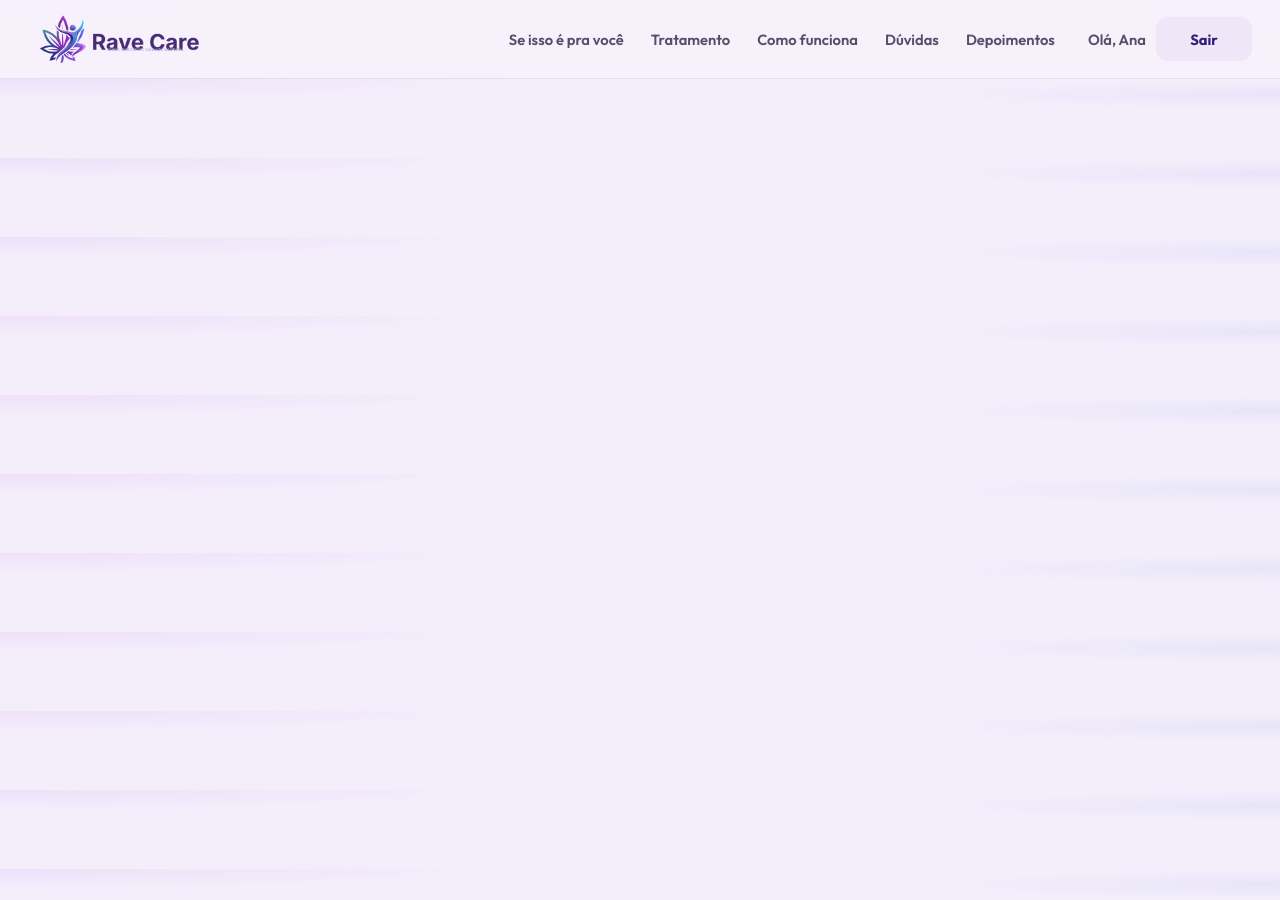
Scenario: Header › mostra a sessão e permite sair na home
Expected: the text "Olá, Ana" is shown, [1088,30,1146,48]
Click the button "Sair": (1204, 39) [1156,17,1252,61]
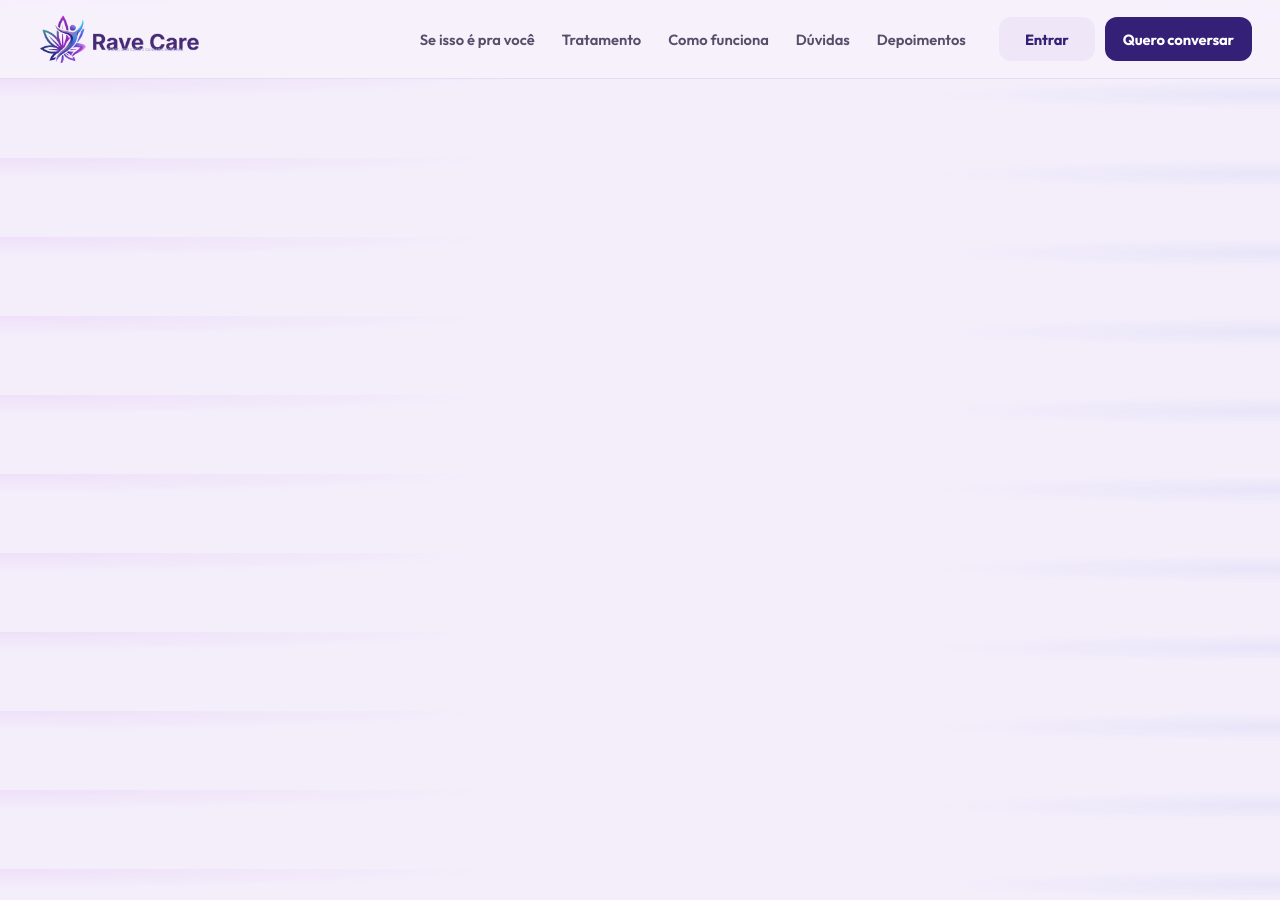
Result: the link "Entrar" is shown at [999,17,1095,61]
